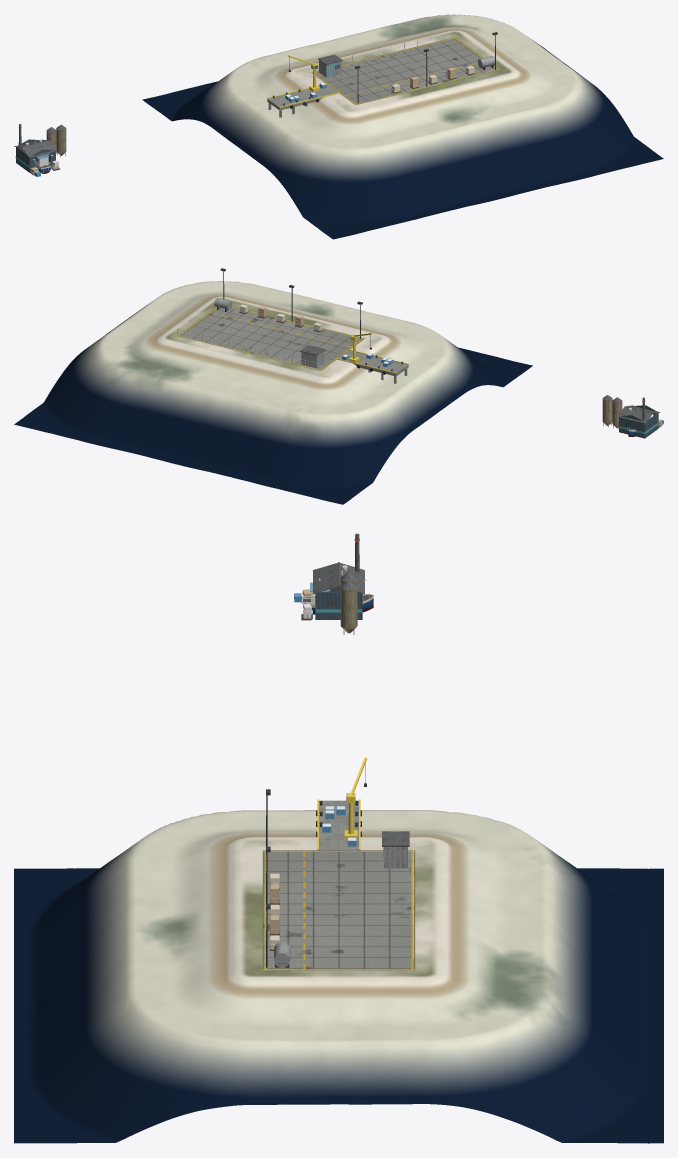
Rendered from factory.glb.
3 renders of one model, top to bottom at view 1: azimuth 30°, elevation 25°; view 2: azimuth 150°, elevation 25°; view 3: azimuth 270°, elevation 25°, orthographic. The views are drawn at different scales.
Visible parts, largest first — view 1: terrain2, wharf, fac_butcher, fac_meal; view 2: terrain2, wharf, fac_butcher, fac_meal; view 3: terrain2, wharf, fac_butcher, fac_meal.
Part boxes in pixels (bbox=[...]): terrain2: bbox=[142, 14, 663, 239]; wharf: bbox=[267, 30, 497, 117]; fac_butcher: bbox=[14, 139, 57, 176]; fac_meal: bbox=[18, 124, 66, 172]; terrain2: bbox=[14, 281, 532, 504]; wharf: bbox=[177, 268, 408, 383]; fac_butcher: bbox=[617, 405, 663, 438]; fac_meal: bbox=[602, 395, 645, 429]; terrain2: bbox=[14, 810, 663, 1143]; wharf: bbox=[266, 757, 413, 970]; fac_butcher: bbox=[294, 562, 364, 619]; fac_meal: bbox=[300, 533, 359, 634].
Bounding box in the file's own units: 106 × 17.45 × 64.
26 materials, 10 textured.
